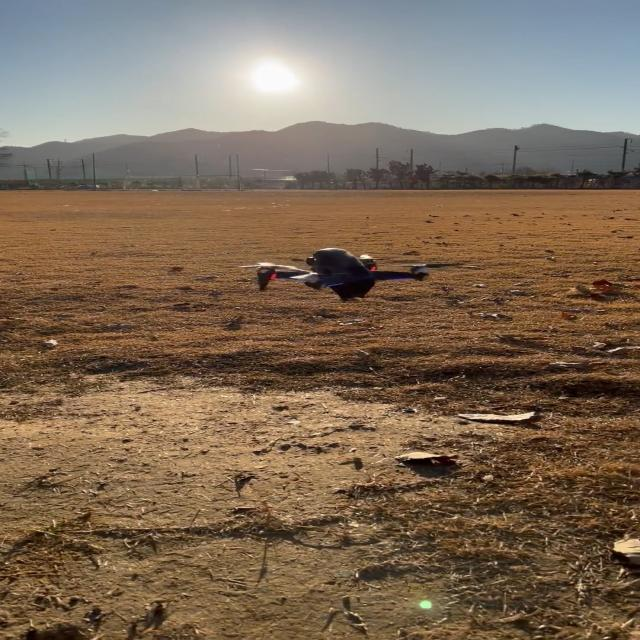Drone: (259, 249, 435, 301)
